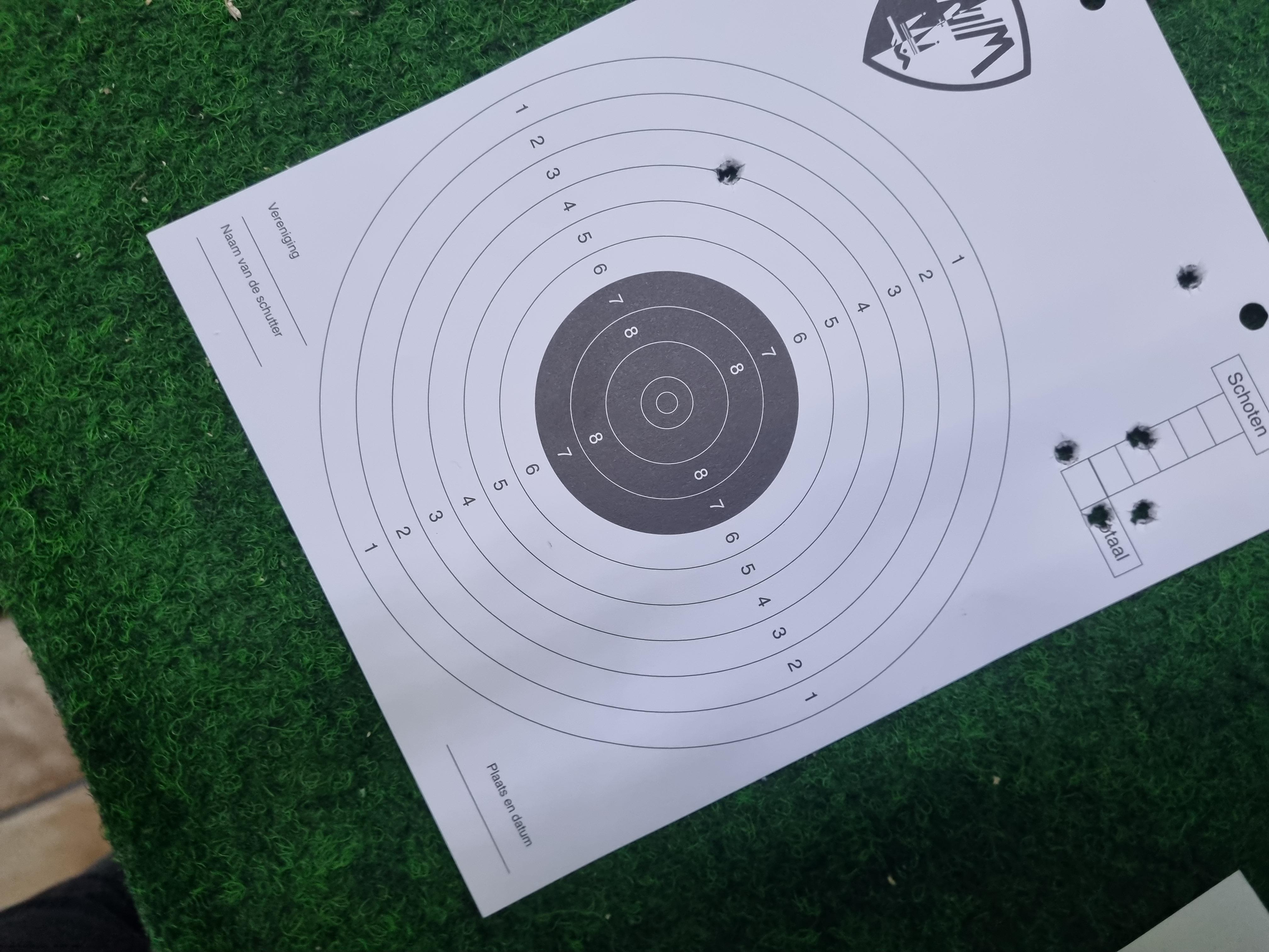hole: (667, 844, 705, 868), (560, 816, 599, 837), (647, 789, 683, 811), (1024, 537, 1057, 560), (568, 849, 605, 869), (881, 883, 916, 904)
